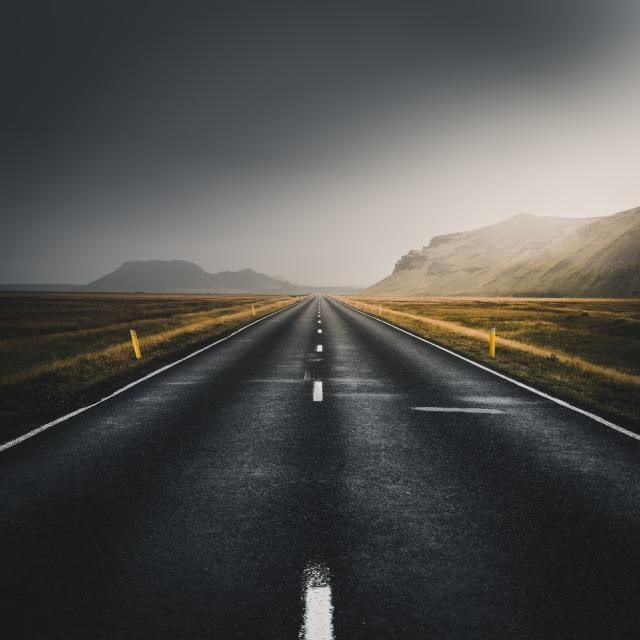Clean road: (0, 302, 640, 640)
